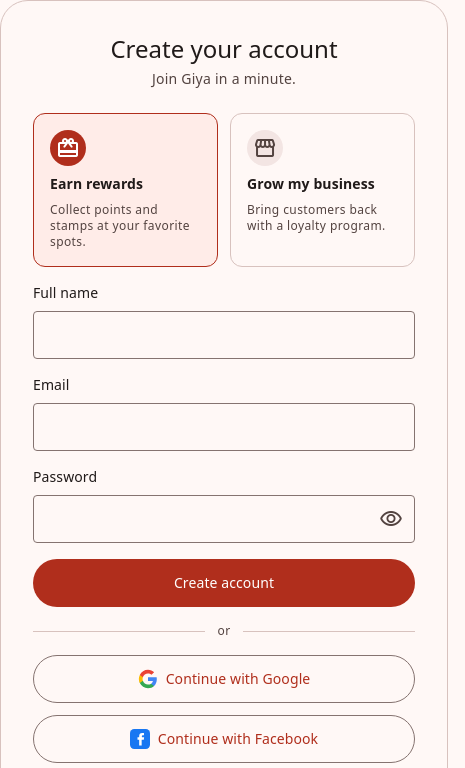
Test: sign-up that lands a session immediately › CRITICAL: keeps the submit button disabled for the whole registration round trip
Type "Ana Cruz" into the field labelled "Full name".
click(224, 335); type("Ana Cruz")  # box 33,311 -> 415,359
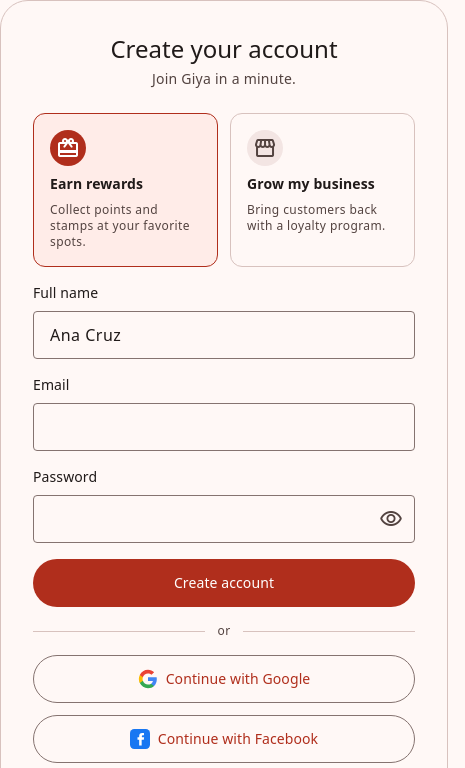
Type "ana@example.com" into the field labelled "Email".
click(224, 427); type("ana@example.com")  # box 33,403 -> 415,451
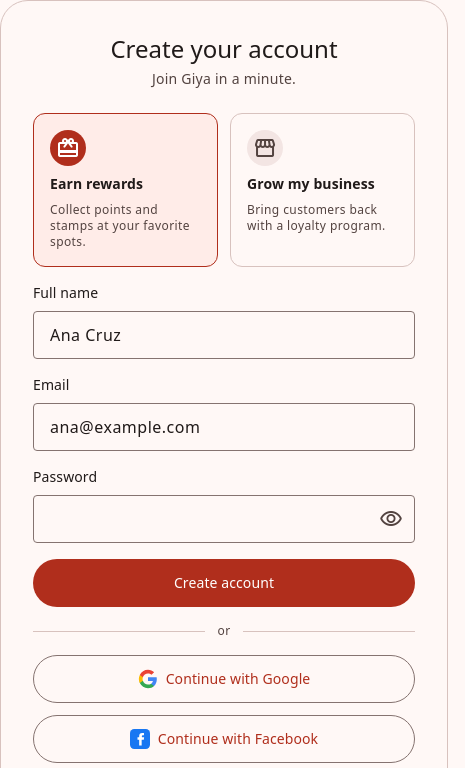
Type "hunter2hunter2" into the password field labelled "Password".
click(224, 519); type("hunter2hunter2")  # box 33,495 -> 415,543
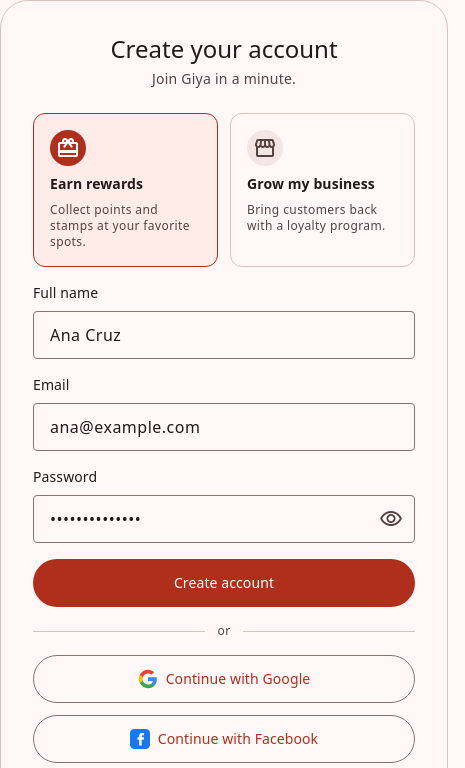
Click the button "Create account".
click(224, 583)  # box 33,559 -> 415,607
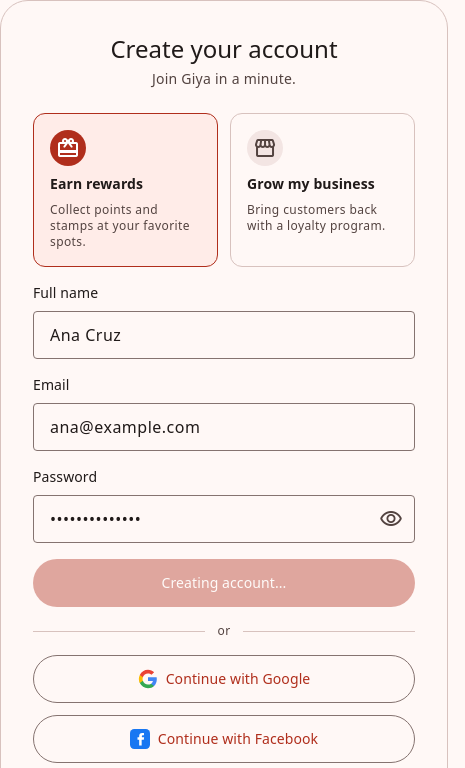
Expected: the button named "Create account" is disabled, 33,559 -> 415,607
